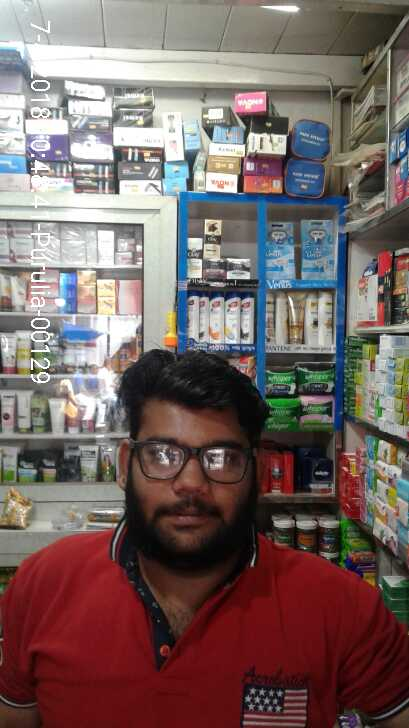venus: (301, 220, 334, 279), (267, 222, 295, 278)
